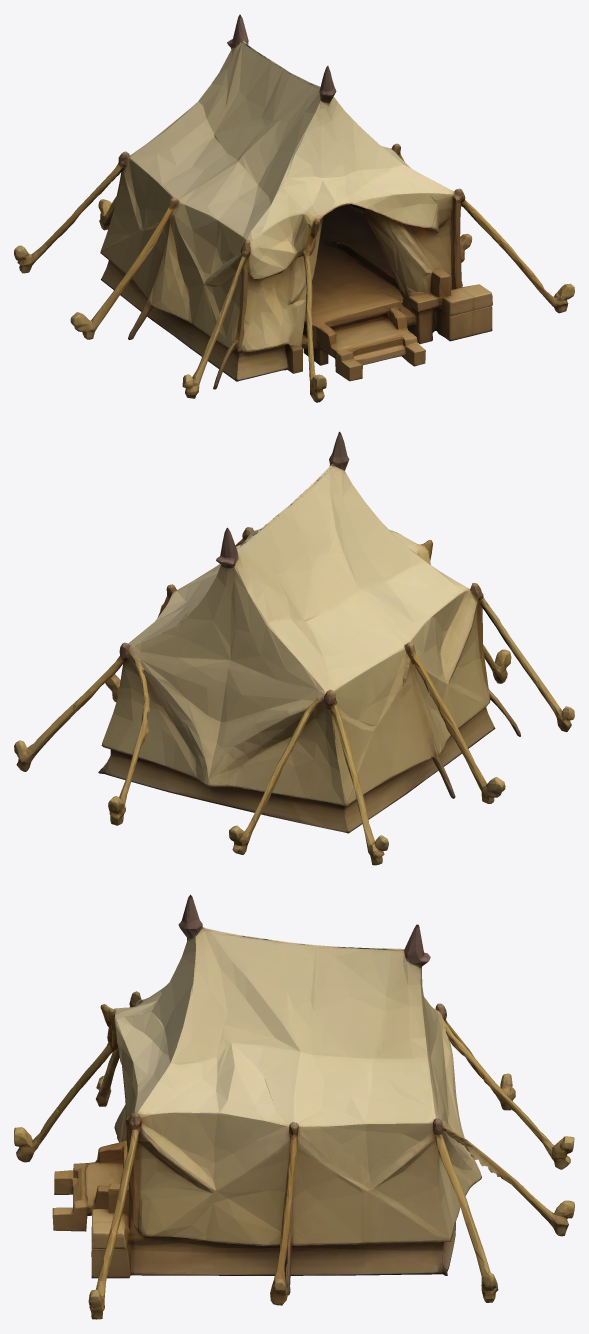
Rendered from safari_tent.glb.
The picture shows the model from 3 angles, top to bottom: view 1: azimuth 30°, elevation 25°; view 2: azimuth 150°, elevation 25°; view 3: azimuth 270°, elevation 25°; orthographic projection. The views are drawn at different scales.
Parts seen in each view (by area): view 1: world; view 2: world; view 3: world.
Boxes of the visible parts, x1,y1,x2,y2 form: world: [14, 14, 574, 402]; world: [14, 431, 574, 865]; world: [14, 894, 574, 1319].
Size of the model in its own units: 0.994 by 0.6295 by 0.998.
Materials: 1 (1 with a texture image).
